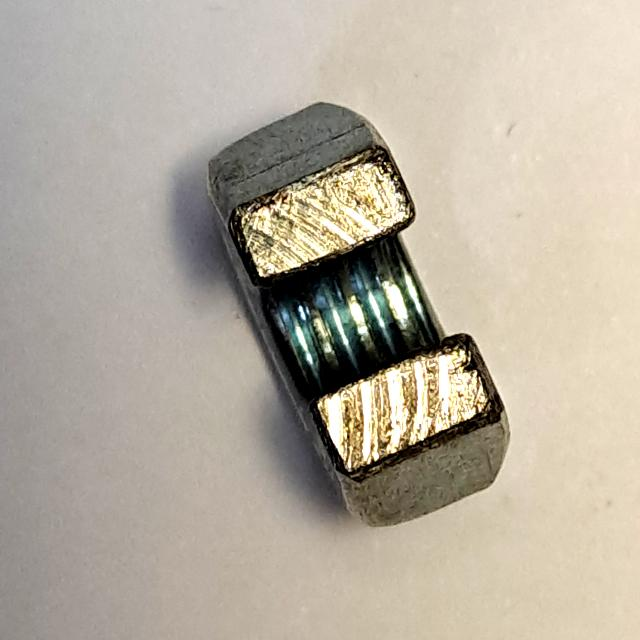Side-Fracture: (196, 87, 530, 547)
